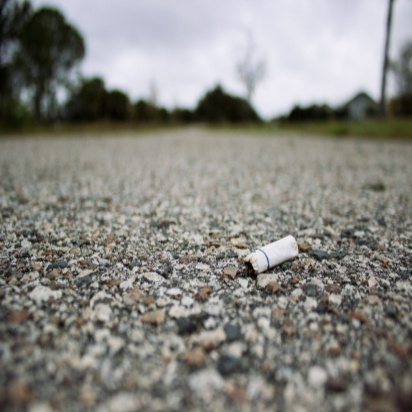cigarette: (243, 231, 299, 277)
